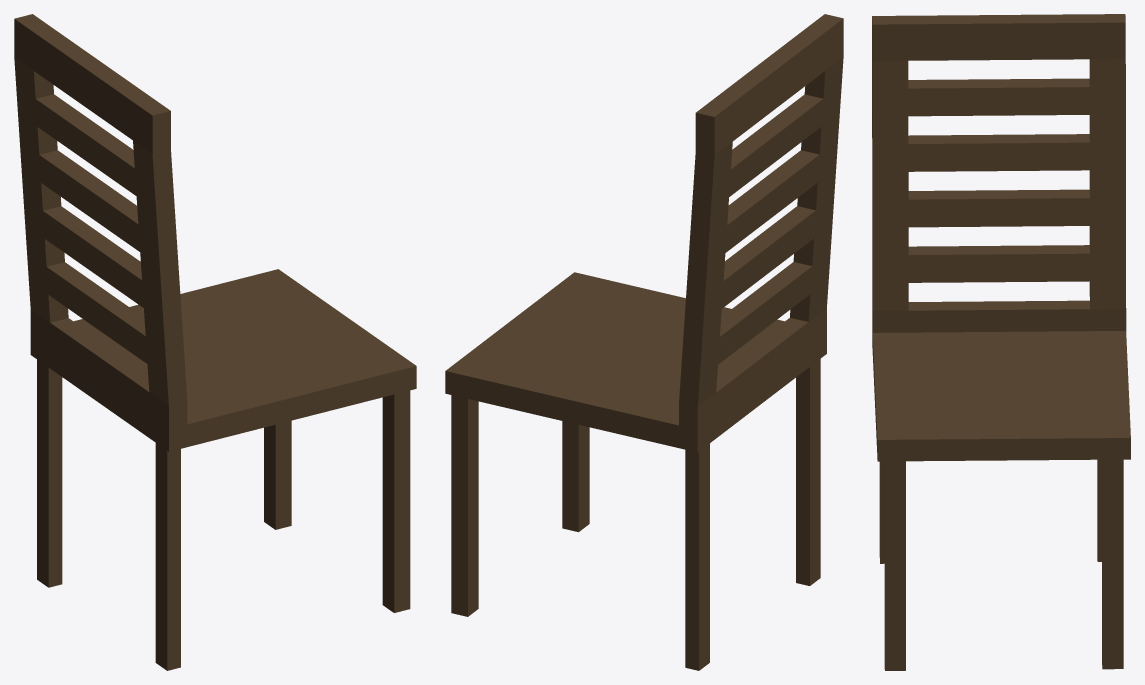
The model's file is chair3.fbx.
3 renders of one model, left to right at view 1: azimuth 30°, elevation 25°; view 2: azimuth 150°, elevation 25°; view 3: azimuth 270°, elevation 25°, orthographic. The views are drawn at different scales.
Parts seen in each view (by area): view 1: chair3; view 2: chair3; view 3: chair3.
Part boxes in pixels (bbox=[...]): chair3: bbox=[14, 14, 416, 670]; chair3: bbox=[445, 14, 843, 670]; chair3: bbox=[872, 14, 1130, 670].
Bounding box in the file's own units: 70.34 × 139 × 61.39.
